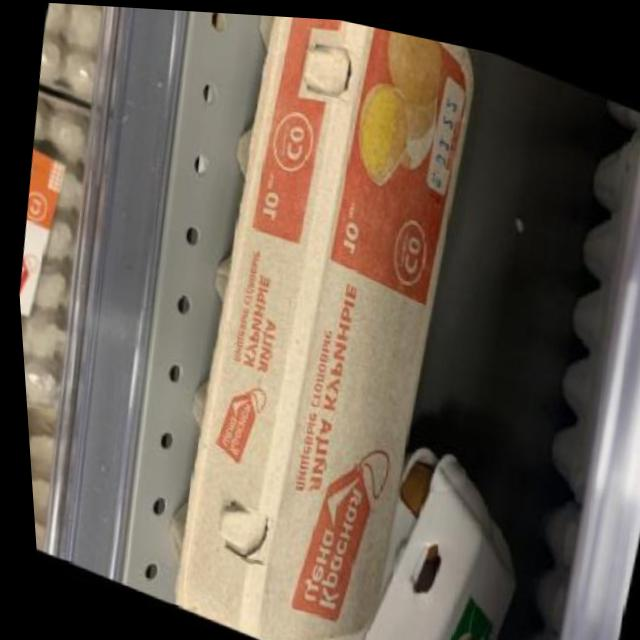Egg: (102, 5, 527, 640)
